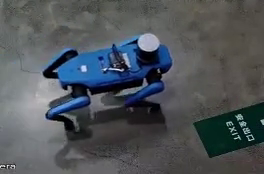robot dog: (42, 30, 178, 142)
